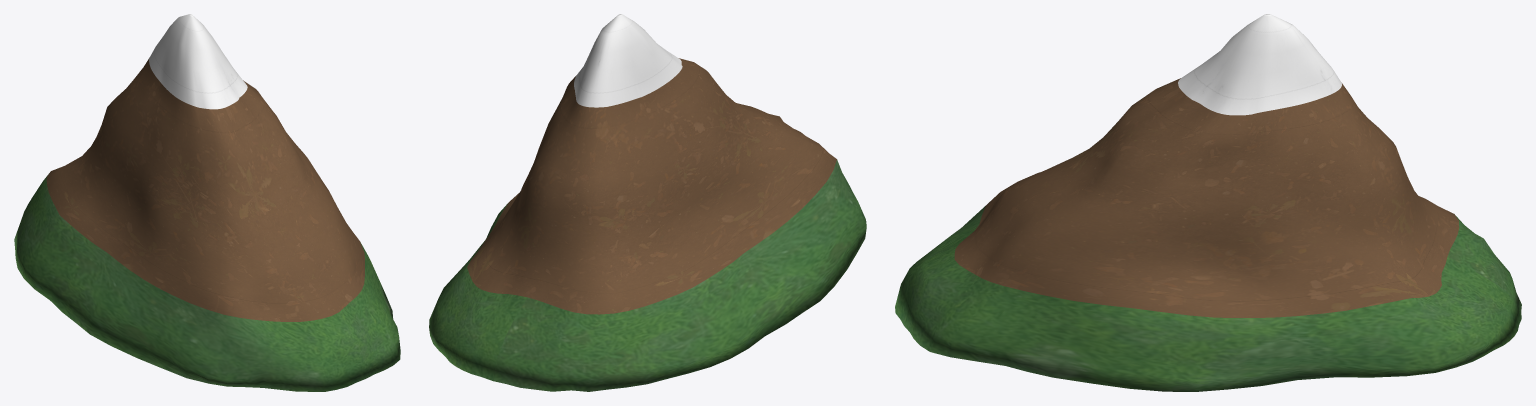
File: Single Mountain.fbx
The picture shows the model from 3 angles, left to right: view 1: azimuth 30°, elevation 25°; view 2: azimuth 150°, elevation 25°; view 3: azimuth 270°, elevation 25°; orthographic projection. The views are drawn at different scales.
Visible parts, largest first — view 1: Single Mountain; view 2: Single Mountain; view 3: Single Mountain.
Boxes of the visible parts, x1,y1,x2,y2 form: Single Mountain: [14, 14, 400, 391]; Single Mountain: [429, 14, 866, 391]; Single Mountain: [895, 14, 1521, 391].
Size of the model in its own units: 219 by 193 by 365.
1 material, 1 textured.
